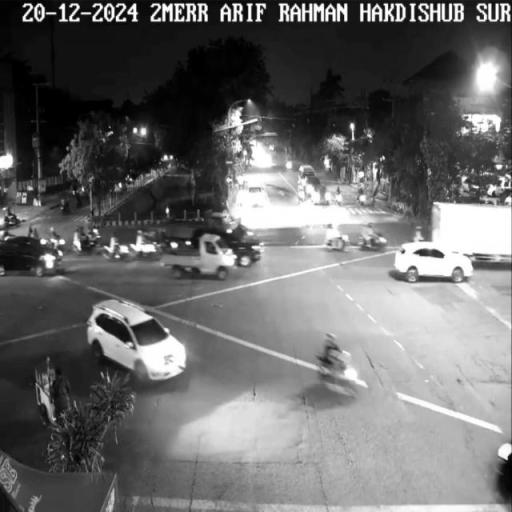car: (82, 296, 188, 382), (394, 240, 476, 281), (1, 234, 63, 271)
motorcycle: (314, 349, 362, 389)
truck: (166, 235, 235, 280)
